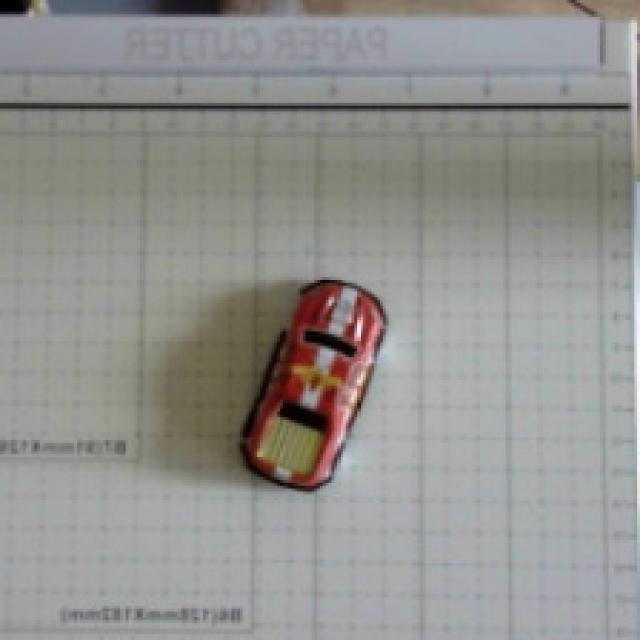Red Car: (185, 231, 410, 518)
